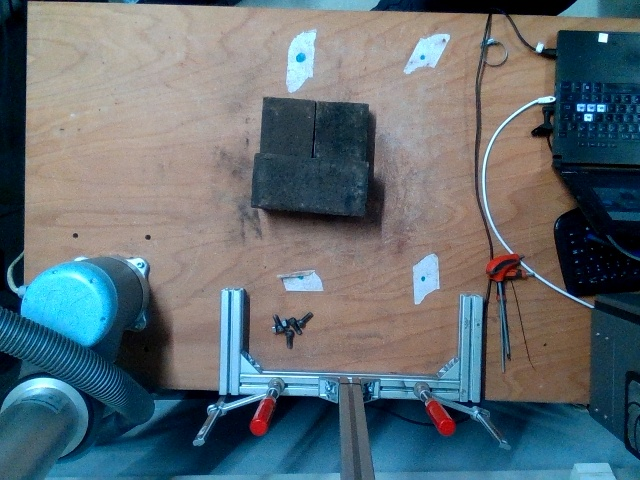brick: (251, 155, 365, 214)
